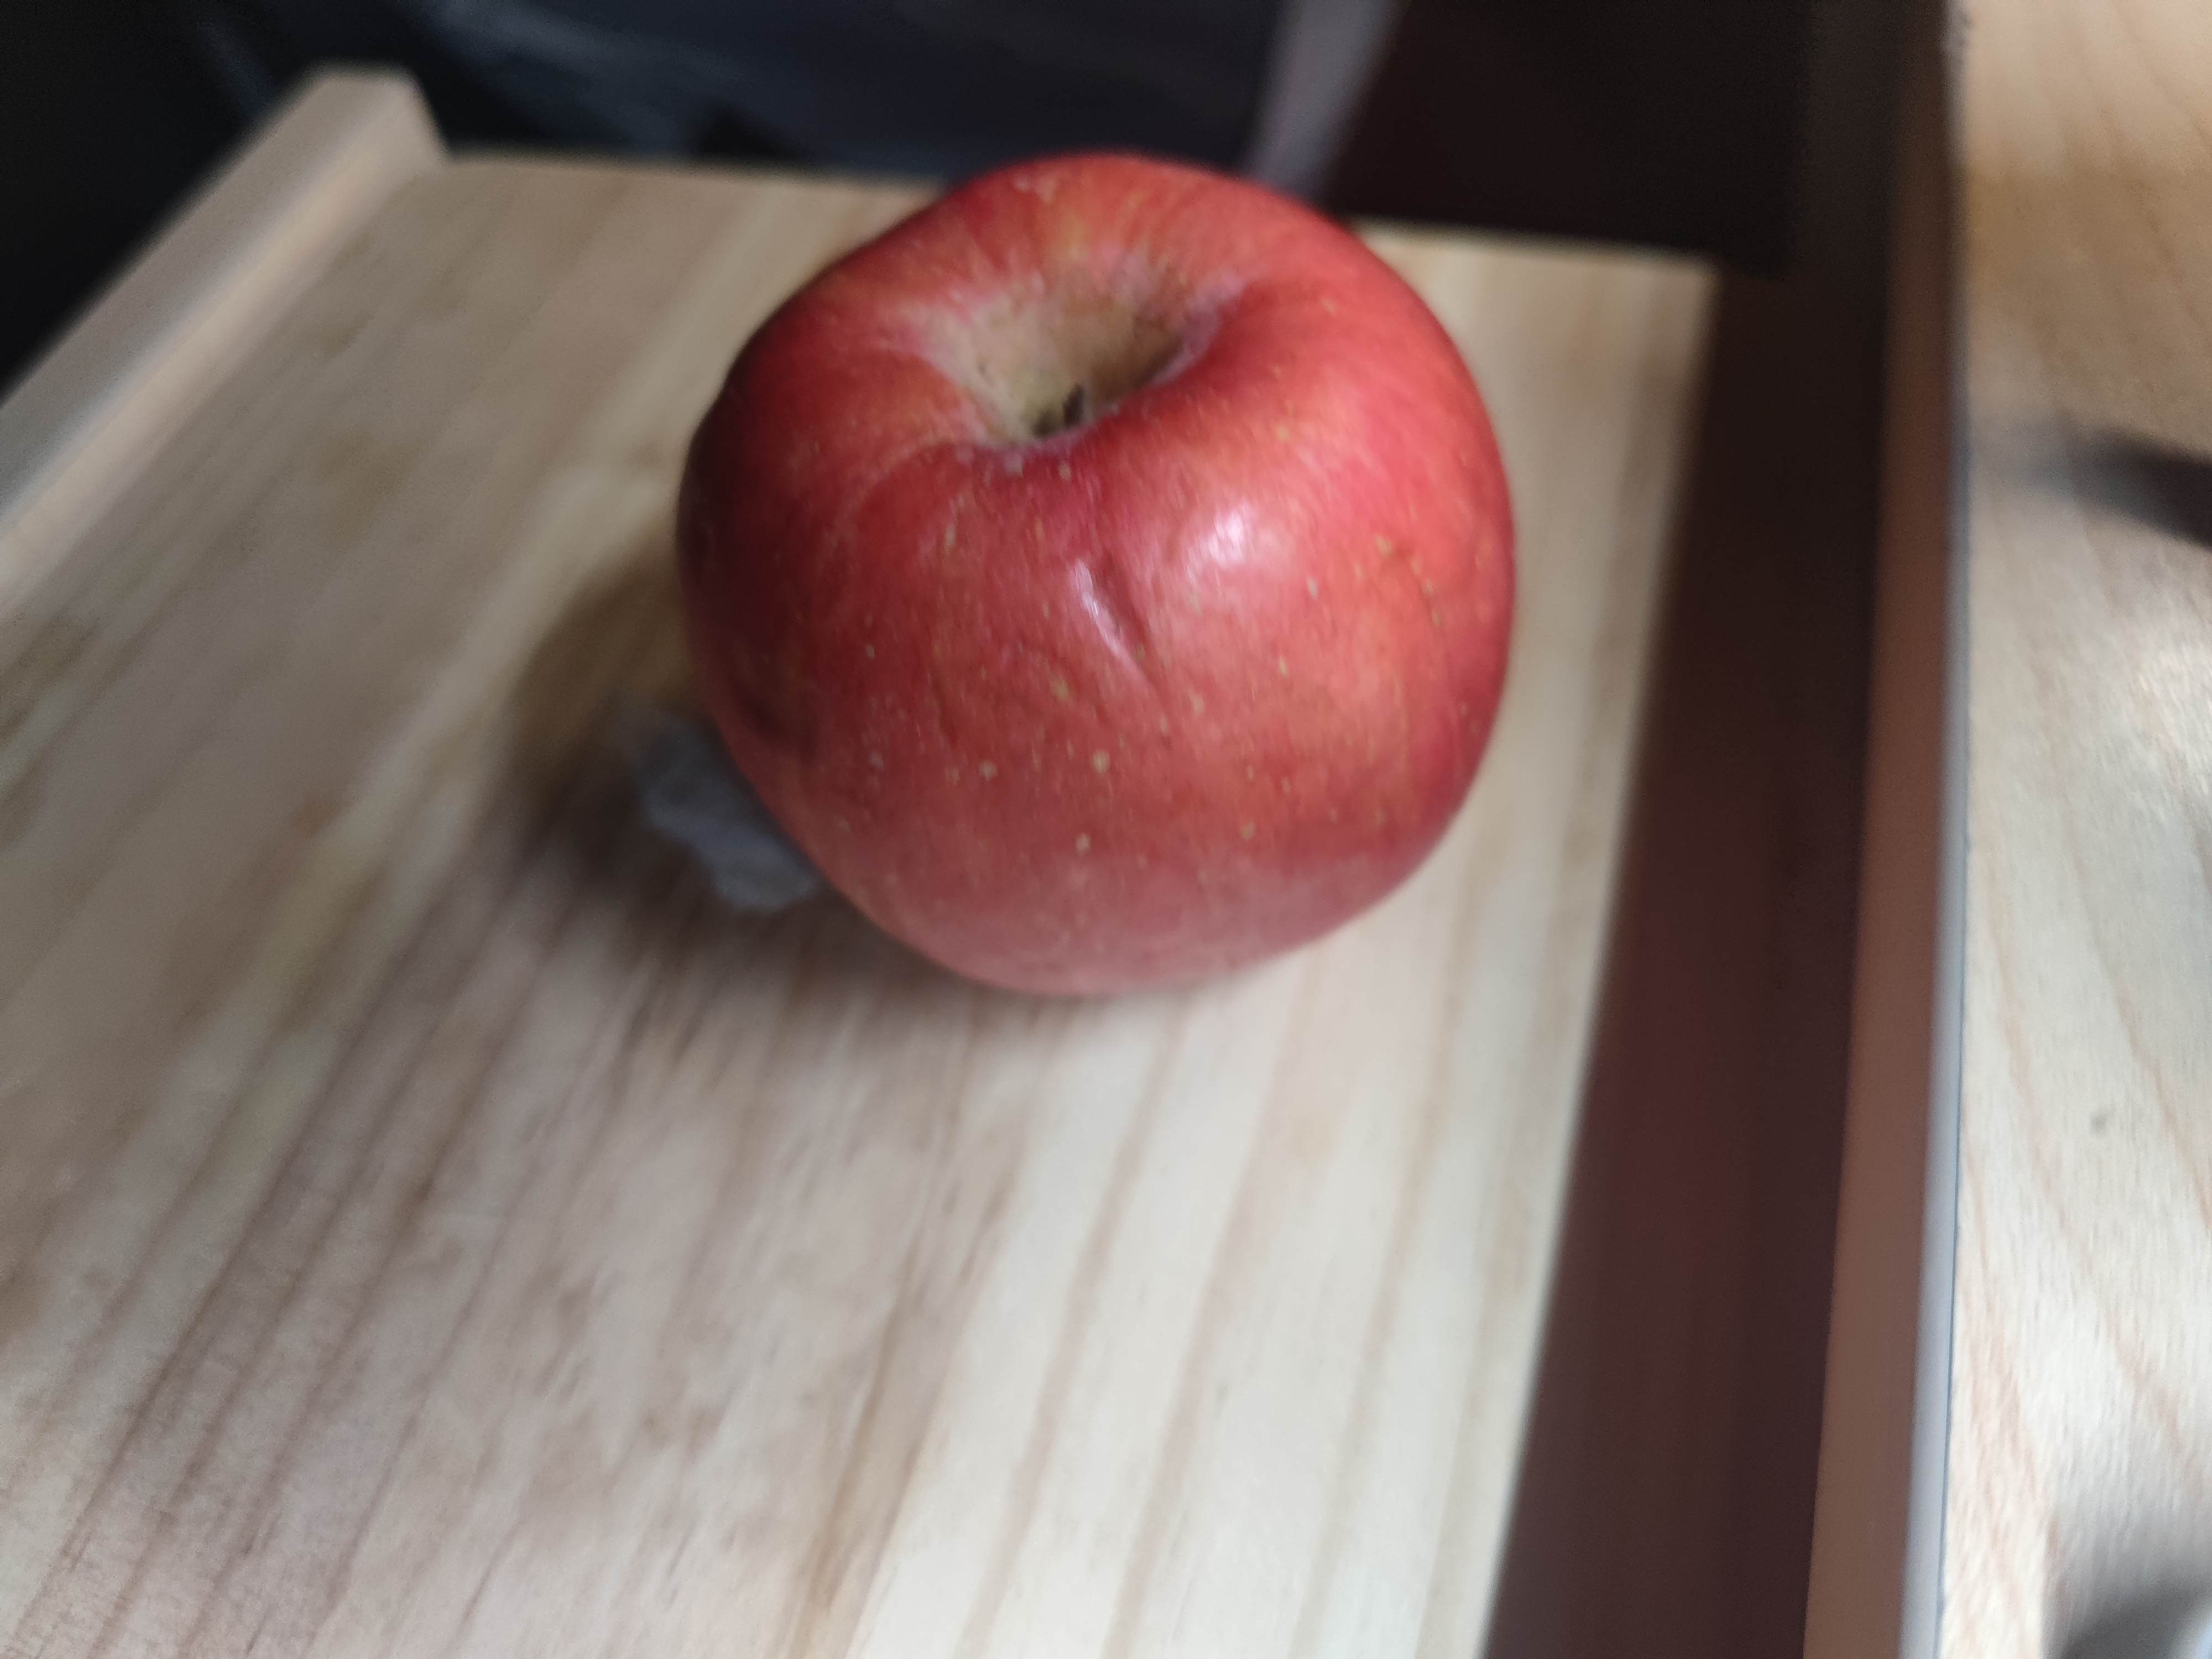apple: (664, 136, 1554, 1037)
